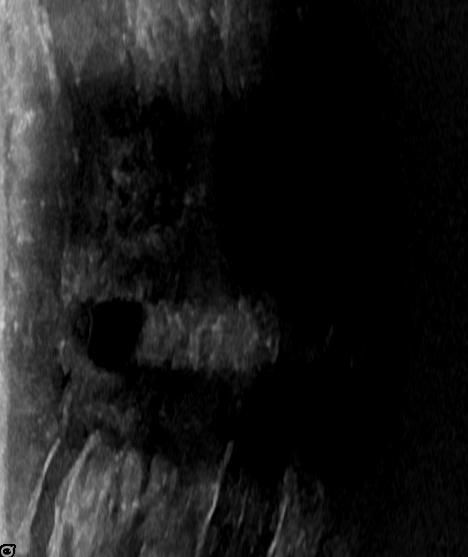Benign: (65, 295, 155, 375)
